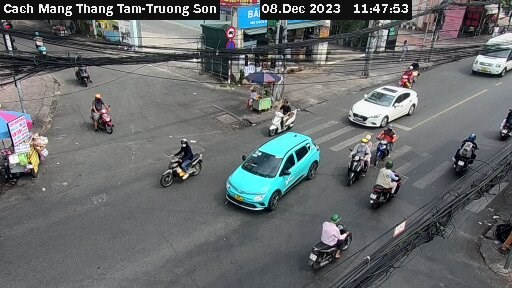car: (220, 134, 317, 210), (340, 82, 420, 129), (469, 33, 512, 75)
motorbike: (308, 211, 356, 271), (154, 139, 206, 186), (80, 92, 129, 134), (340, 131, 375, 188), (365, 160, 406, 207), (440, 132, 483, 176), (368, 123, 401, 162), (268, 98, 308, 130), (70, 60, 100, 87), (491, 104, 512, 141), (392, 66, 418, 94)
